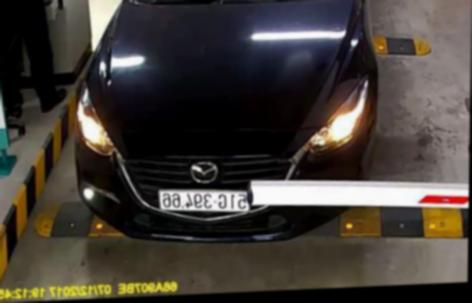License_Plate: (158, 180, 253, 217)
